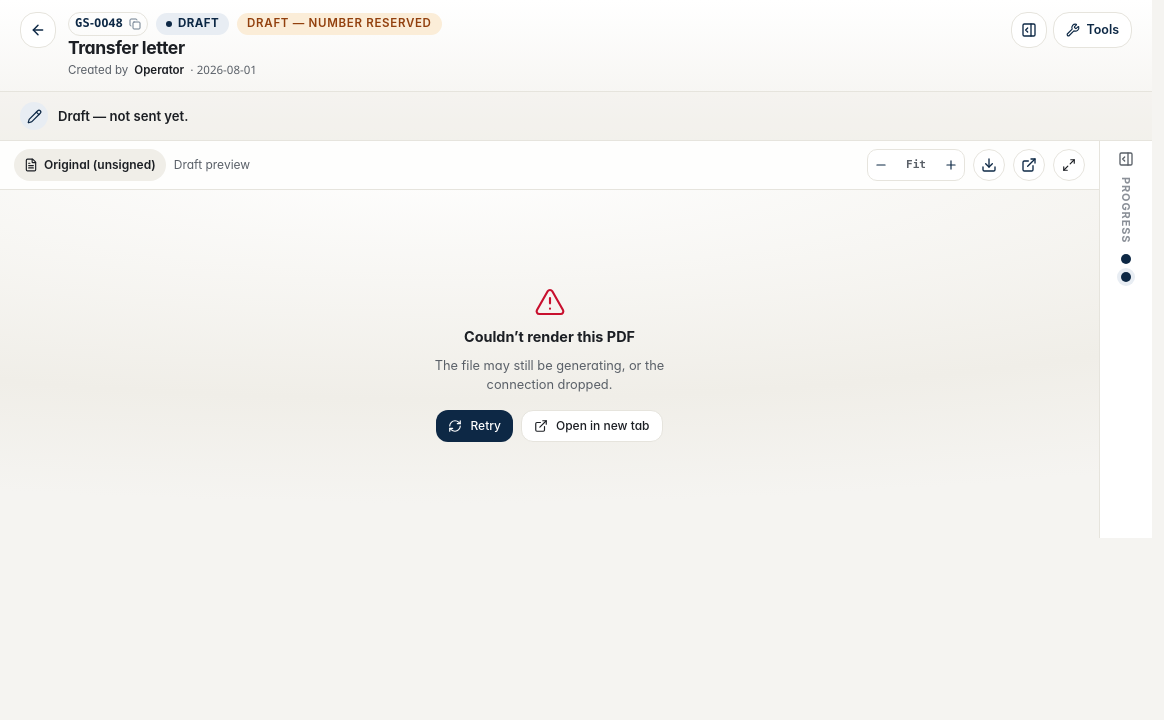
BookRecordPage — Delete › hides Delete without books.delete
Click the button "Tools": [1093, 30] box [1053, 12, 1132, 48]
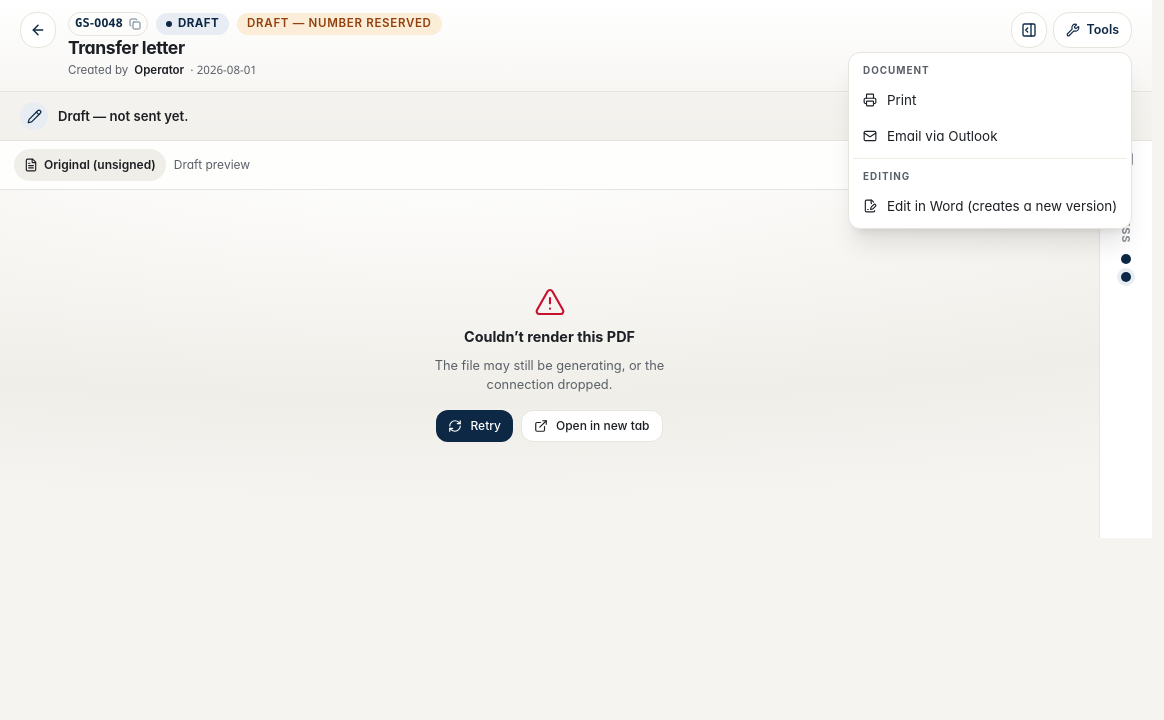
Now the menu item "Print" is shown, box [863, 92, 916, 108]
